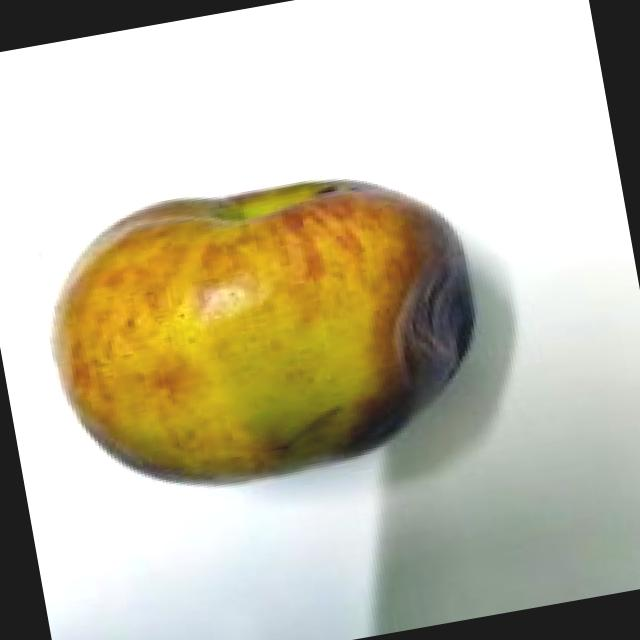Rotten_Apple: (0, 75, 600, 598)
